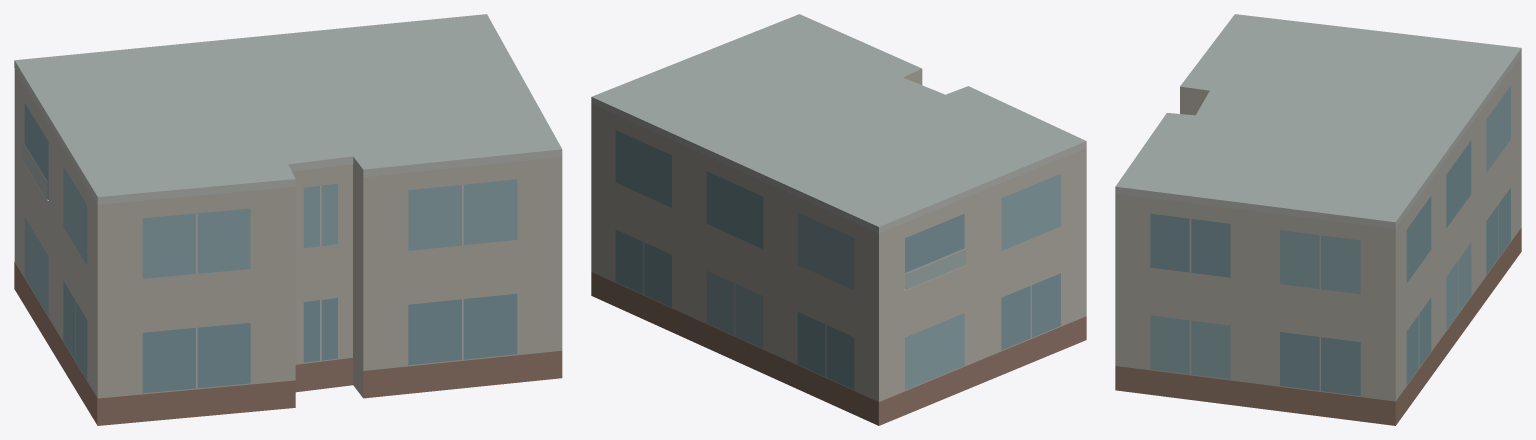
File: survey-upis-32635766.glb
The picture shows the model from 3 angles, left to right: view 1: azimuth 30°, elevation 25°; view 2: azimuth 150°, elevation 25°; view 3: azimuth 270°, elevation 25°; orthographic projection. The views are drawn at different scales.
Parts seen in each view (by area): view 1: survey-upis-32635766.tmp; view 2: survey-upis-32635766.tmp; view 3: survey-upis-32635766.tmp.
Part boxes in pixels (x1=…): survey-upis-32635766.tmp: x1=14, y1=14, x2=562, y2=425; survey-upis-32635766.tmp: x1=591, y1=14, x2=1086, y2=425; survey-upis-32635766.tmp: x1=1115, y1=14, x2=1521, y2=425.
Size of the model in its own units: 16.02 by 7.3 by 13.21.
